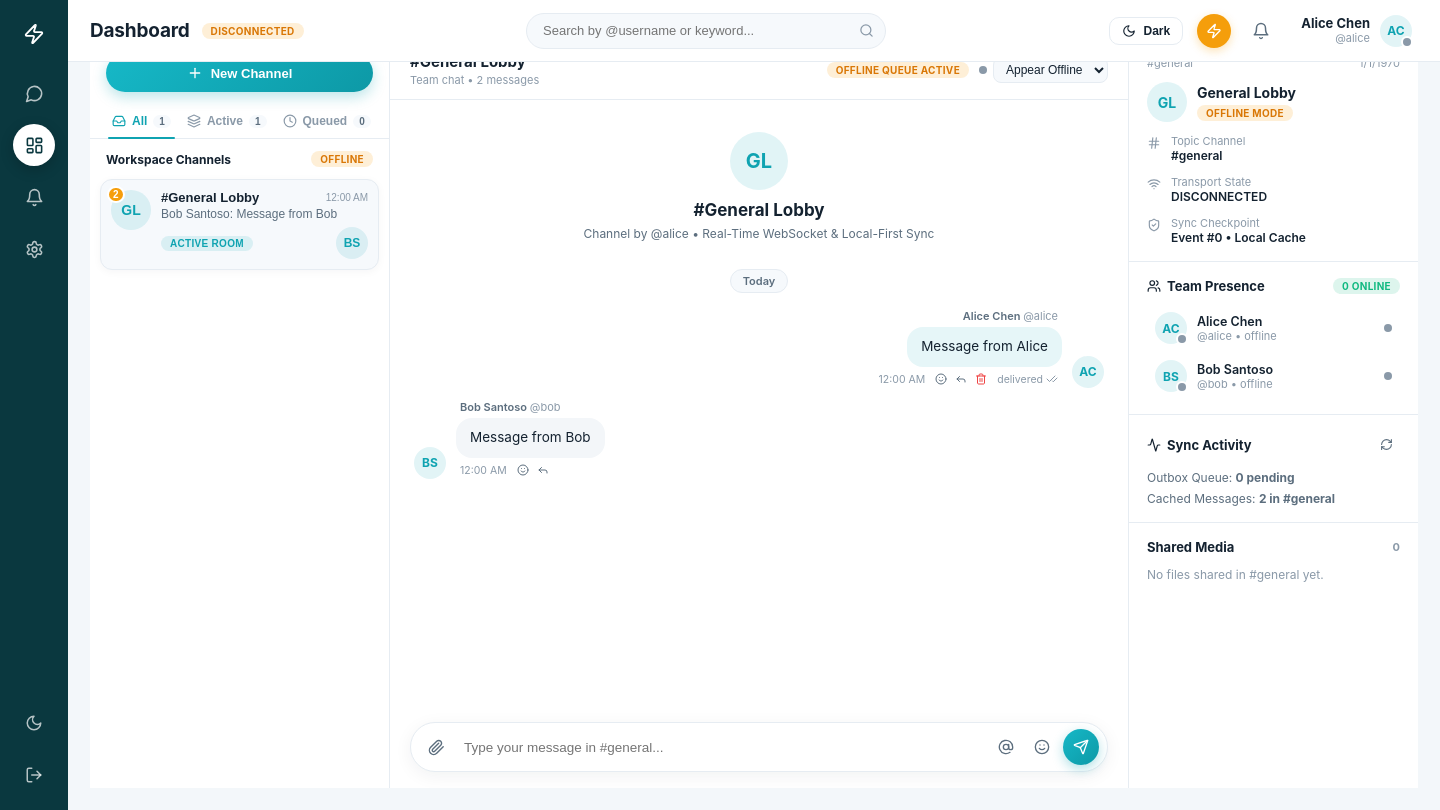
Scenario: UI Components Presentation Layer › supports reply, search by @username, and delete message in ChatPage
(page scrolled)
# Reply to Bob's message shows reply banner
Click the 2nd button named "Reply to message": (543, 470) [535,462,551,478]
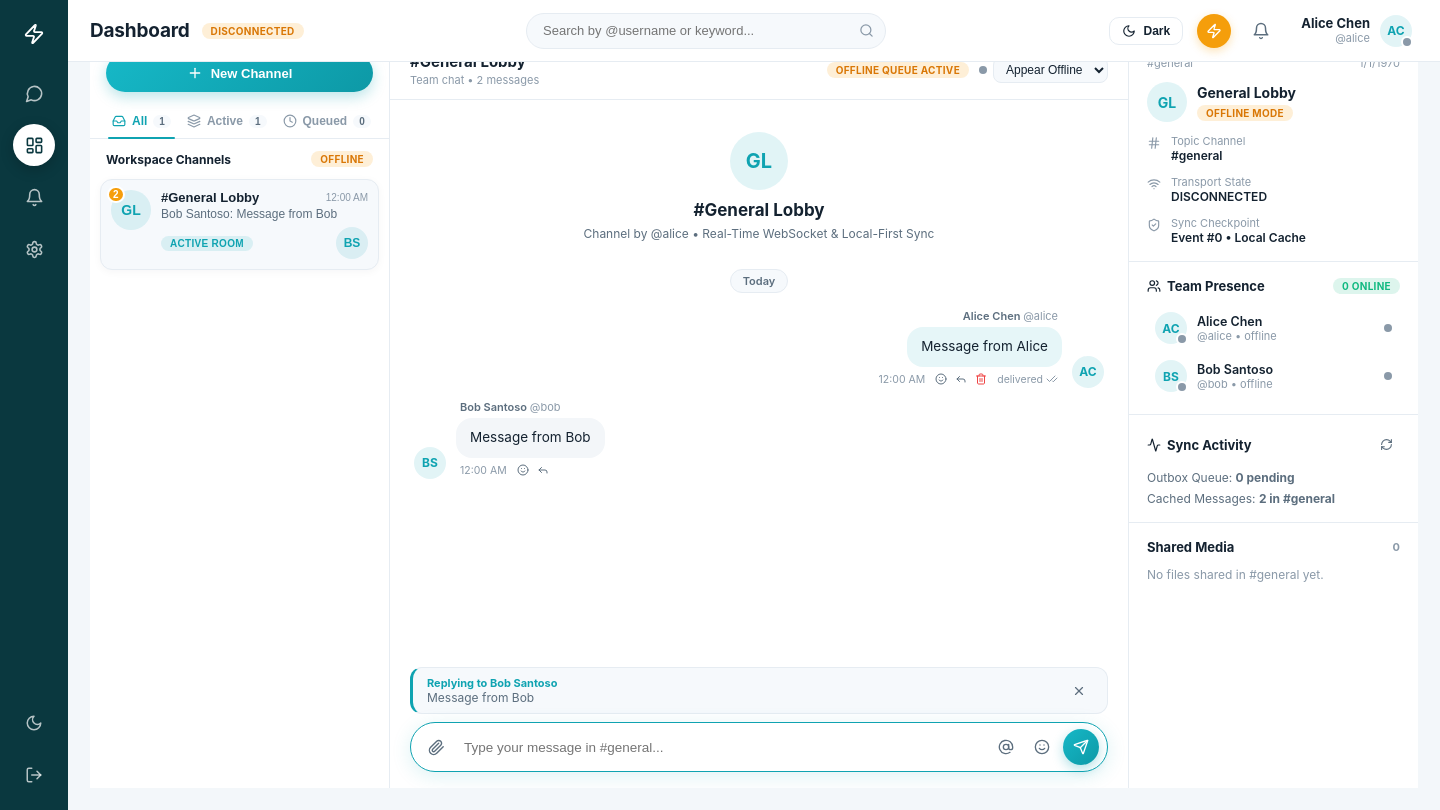
Expected: the element with class "reply-banner" is shown, [410,667,1108,714]
Expected: the element with class "reply-banner" shows "Replying to", [427,676,490,690]
Expected: the element with class "reply-banner" shows "Bob Santoso", [490,676,558,690]
# Search by @username filters messages to @bob only
In the search field named "Search workspace": (706, 30) [526,12,886,48], type "@bob"
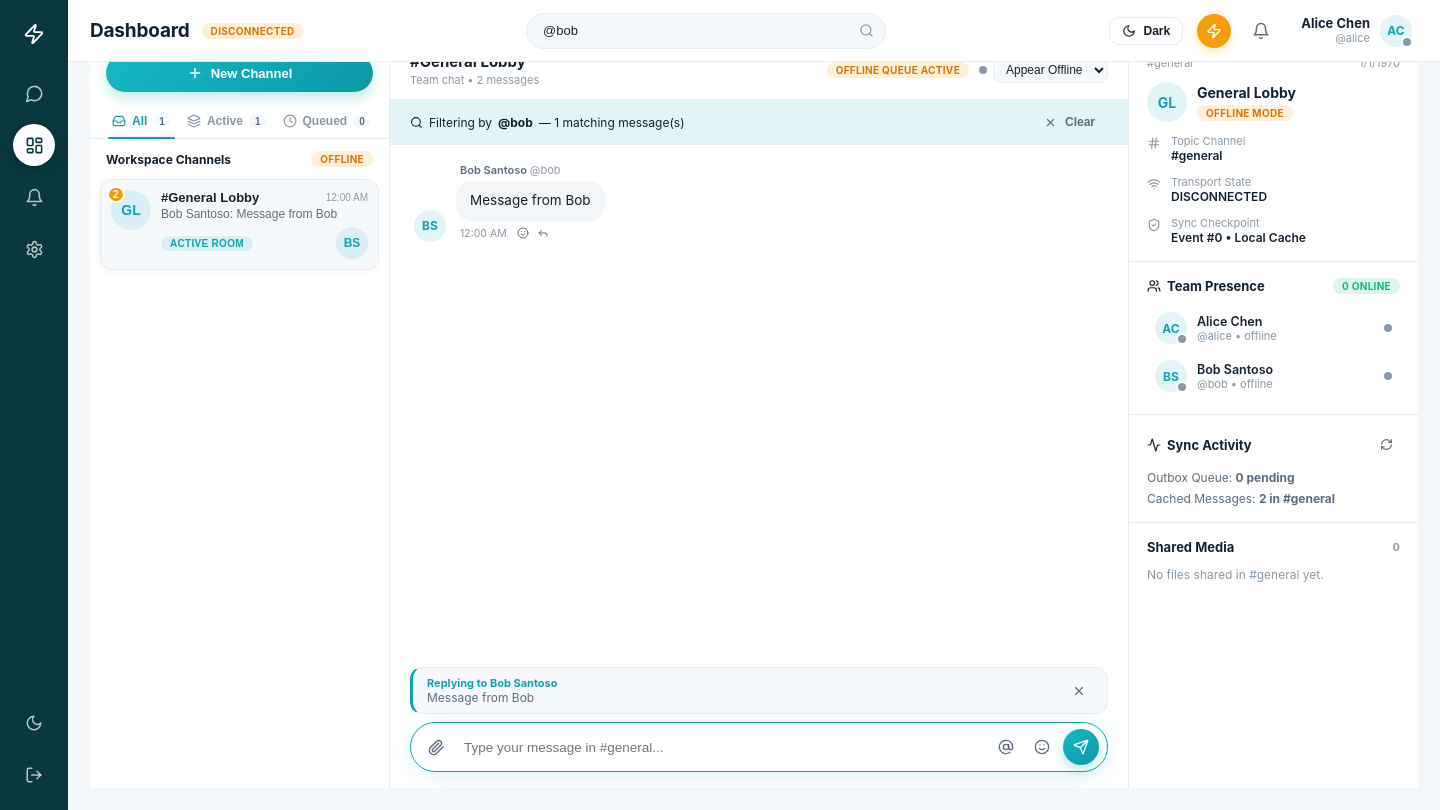
Clear the search field named "Search workspace": (706, 30) [526,12,886,48]
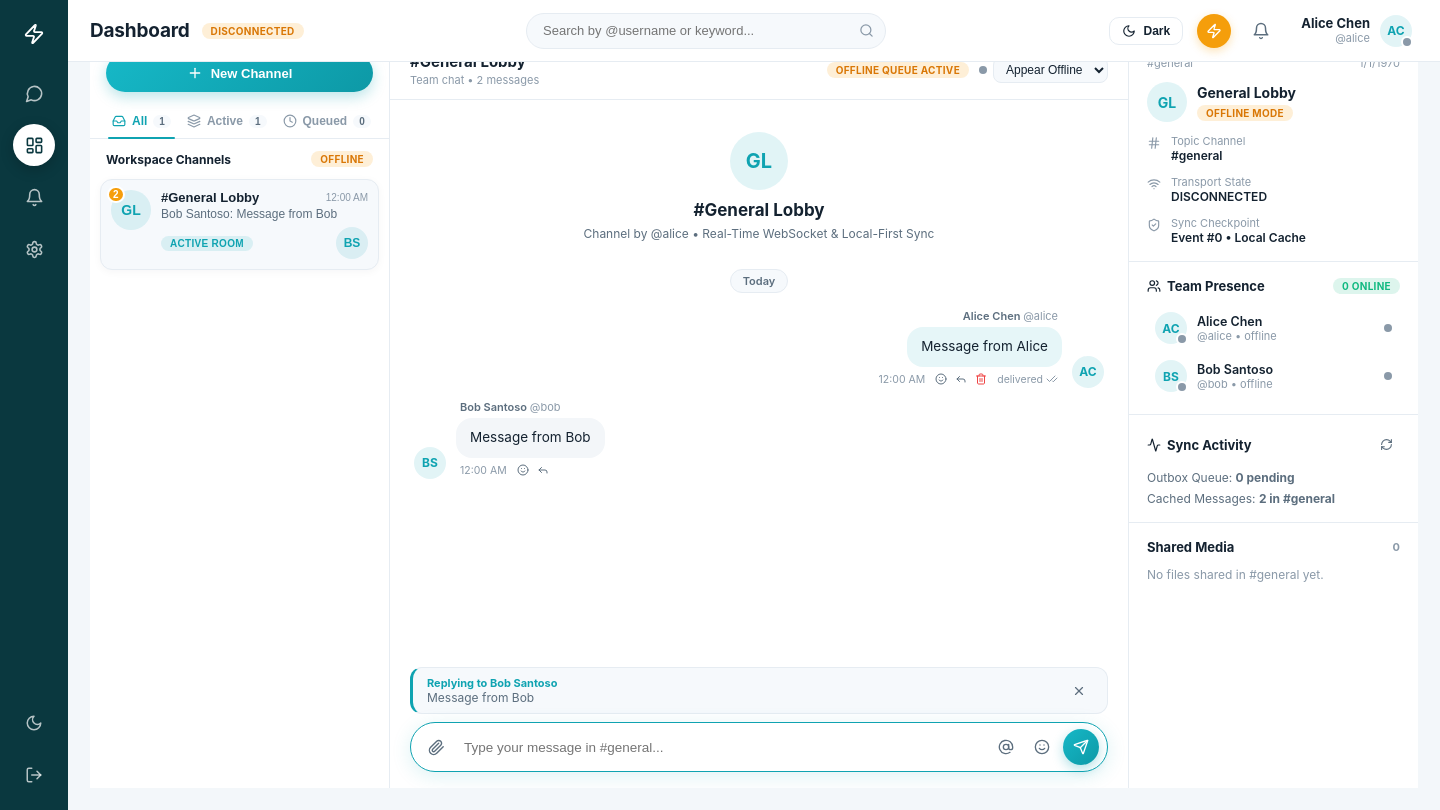
# Delete Alice's own message removes it immediately
Click the button named "Delete message": (981, 380) [973,372,989,388]
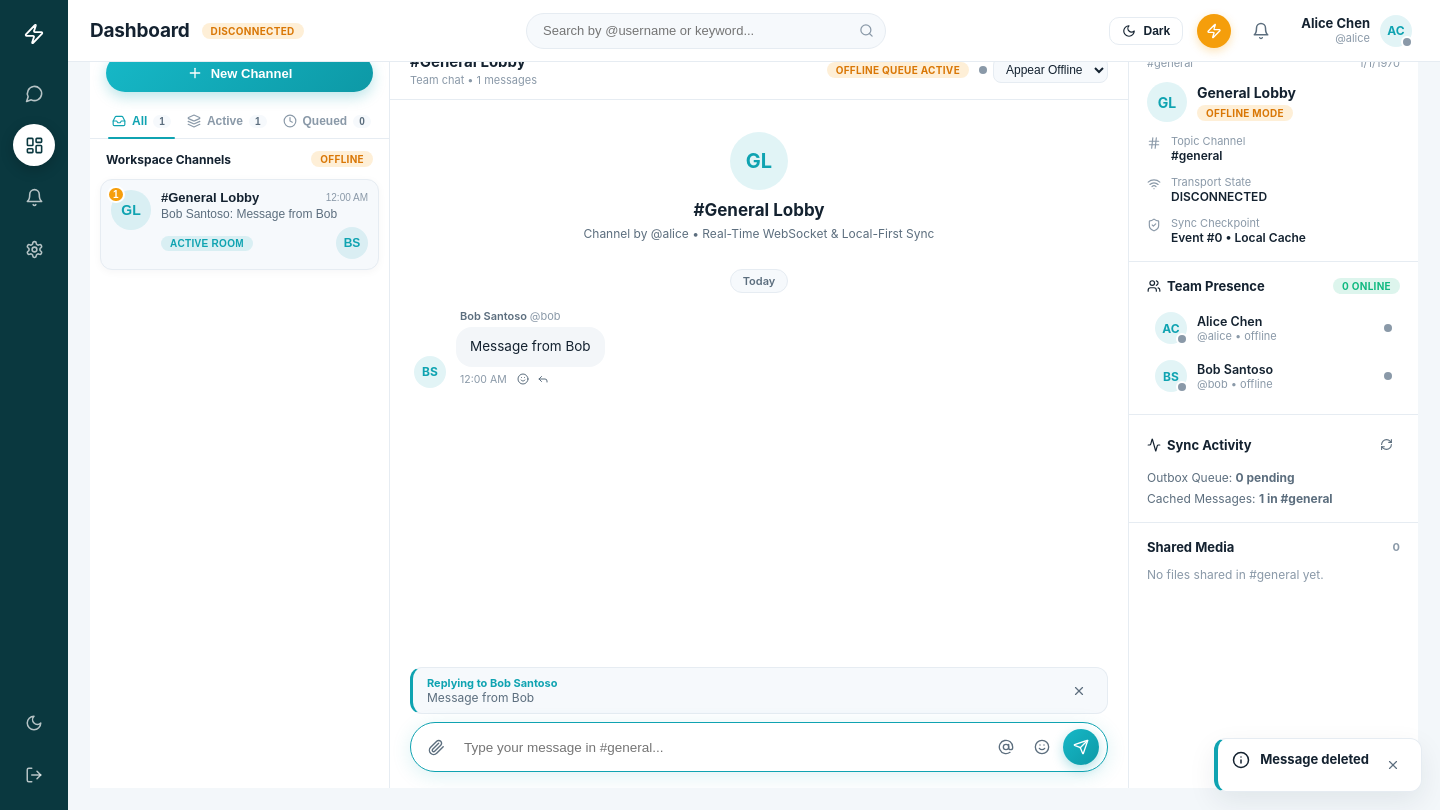
Expected: the text "Message from Alice" is gone
